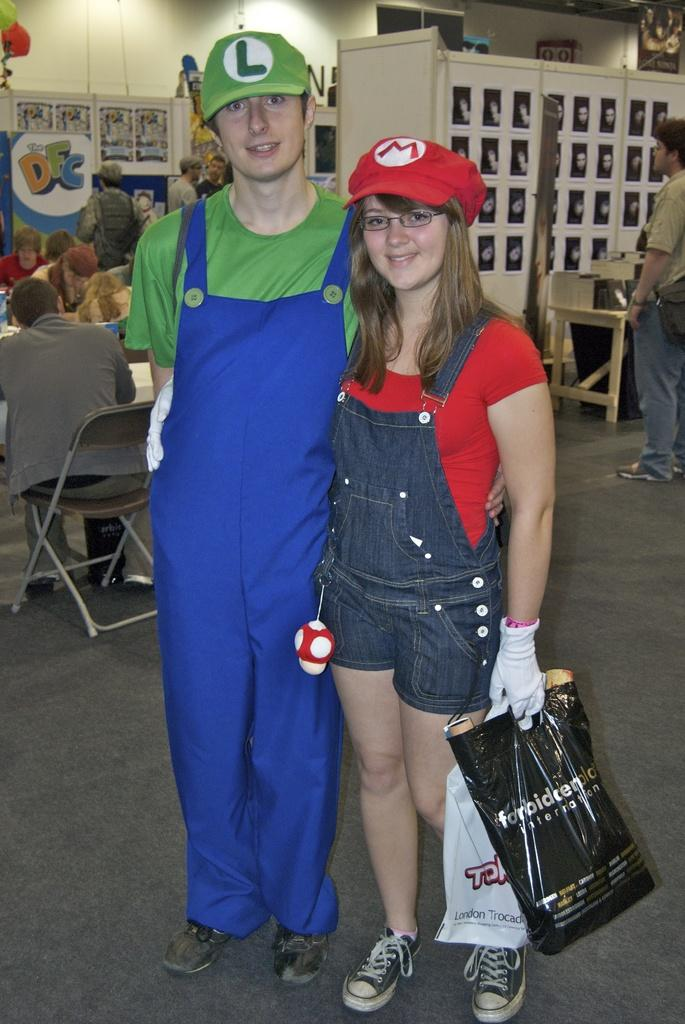Hat: (338, 136, 492, 224), (197, 28, 315, 126)
